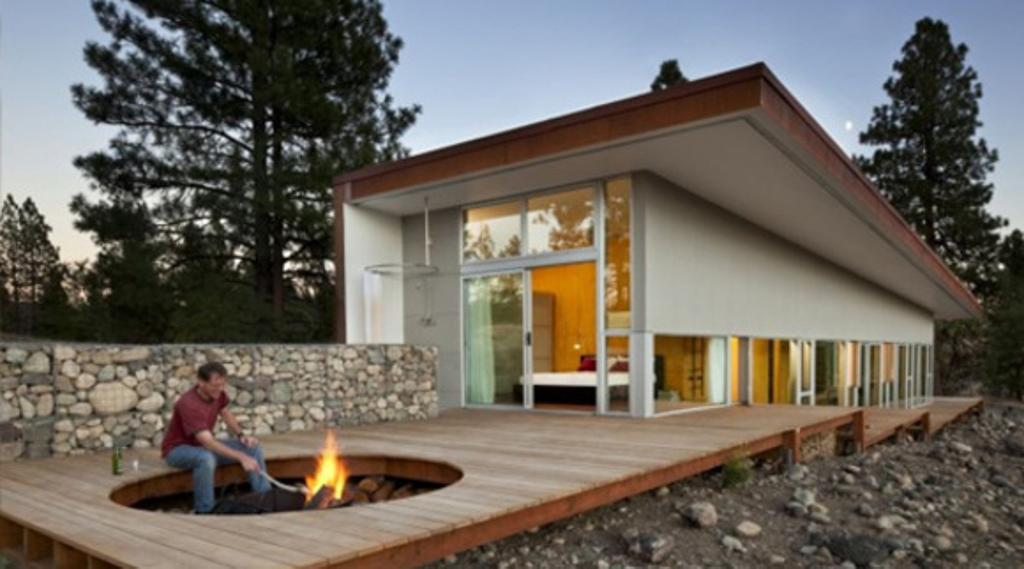face: (205, 371, 225, 400)
